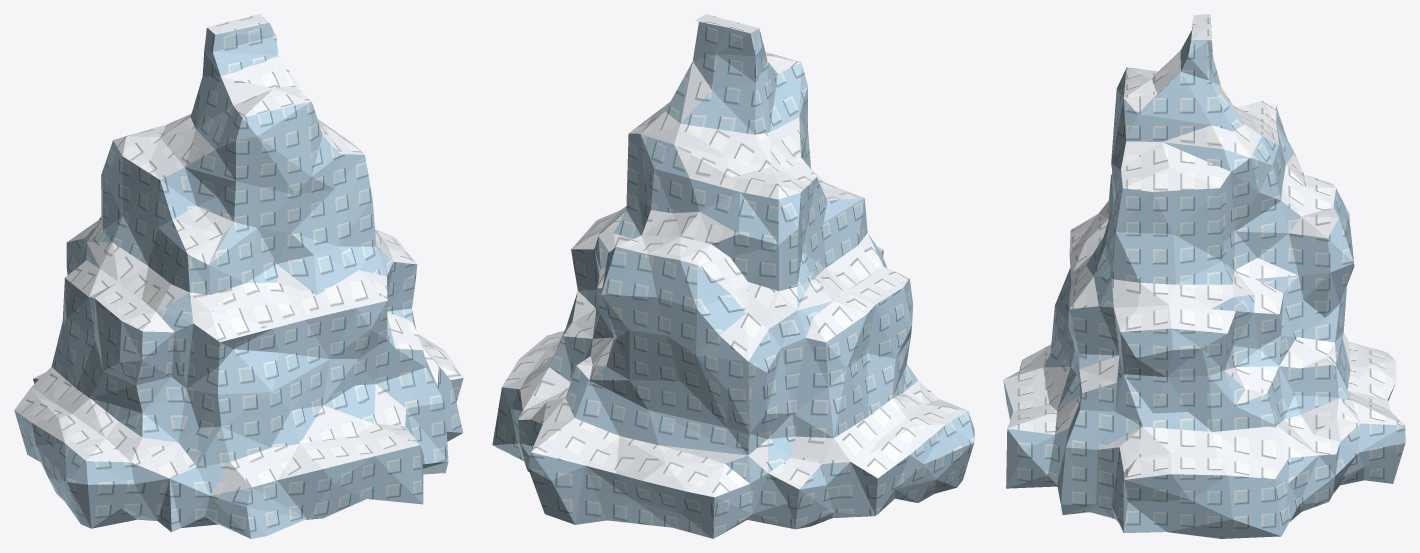
File: Iceberg.glb
3 views of the same model, side by side, from view 1: azimuth 30°, elevation 25°; view 2: azimuth 150°, elevation 25°; view 3: azimuth 270°, elevation 25° (orthographic). The views are drawn at different scales.
Visible parts, largest first — view 1: Iceberg_Rock, Iceberg_Top; view 2: Iceberg_Rock, Iceberg_Top; view 3: Iceberg_Rock, Iceberg_Top.
Part boxes in pixels (x1=…): Iceberg_Rock: x1=14, y1=22, x2=463, y2=538; Iceberg_Top: x1=14, y1=14, x2=463, y2=495; Iceberg_Rock: x1=492, y1=22, x2=974, y2=538; Iceberg_Top: x1=502, y1=14, x2=967, y2=497; Iceberg_Rock: x1=1003, y1=18, x2=1405, y2=538; Iceberg_Top: x1=1003, y1=14, x2=1404, y2=479.
Bounding box in the file's own units: 16.79 × 17.7 × 14.87.
Materials: 2 (2 with a texture image).
